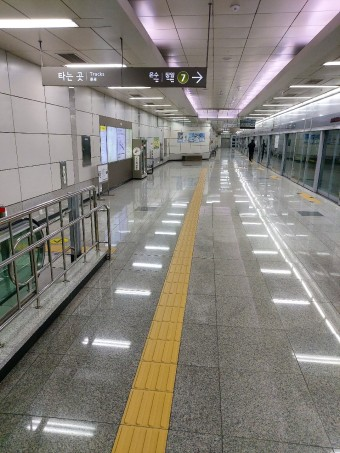guideBlock: (123, 389, 184, 438), (115, 419, 181, 453), (135, 362, 183, 392), (148, 316, 187, 346), (145, 335, 181, 366), (149, 305, 191, 330)
